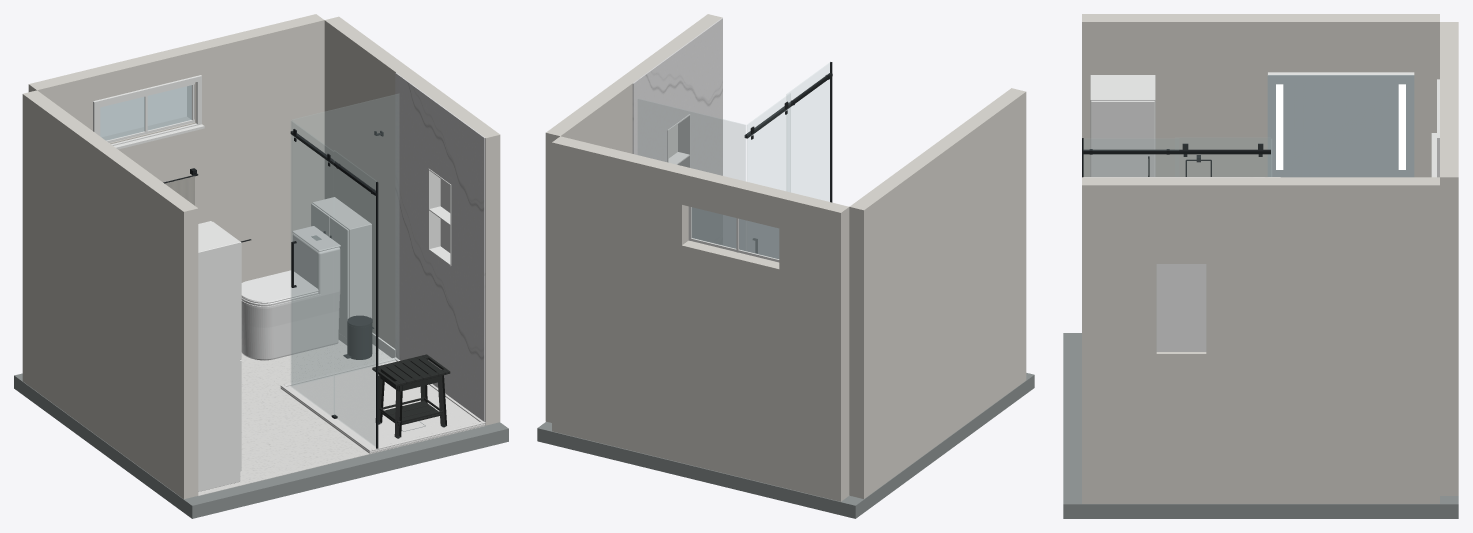
File: bathroom.glb
3 views of the same model, side by side, from view 1: azimuth 30°, elevation 25°; view 2: azimuth 150°, elevation 25°; view 3: azimuth 270°, elevation 25° (orthographic). The views are drawn at different scales.
Visible parts, largest first — view 1: Left wall, Shower glass · short return, Back wall · below window, Right wall · toilet end, White speckled epoxy floor, Shower glass · sliding door concept, Sapphire right panel · below niche, LF1614-62GWH linen cabinet, Shower glass · fixed long panel, Back wall · above window, Floor slab, Sapphire right panel · above niche (+19 smaller); view 2: Back wall · below window, Left wall, Back wall · above window, Floor slab, Sapphire right panel · above niche, Shower glass · short return, Right wall · toilet end, Back wall · right return, Shower glass · fixed long panel, Shower glass · sliding door concept, Back wall · left return, Two-pane window glass (+3 smaller); view 3: Right wall · toilet end, Left wall, Right wall · below niche, Right wall · above niche, ALEX reflective surface, Floor slab, Right wall · front return, Right wall · back return, Linen cabinet door · right hinged, Back wall · below window, Homevacious vertical niche back, Back wall · above window (+6 smaller).
Boxes of the visible parts, x1,y1,x2,y2 form: Left wall: (22, 90, 198, 499); Shower glass · short return: (292, 94, 398, 385); Back wall · below window: (102, 91, 324, 282); Right wall · toilet end: (324, 16, 410, 348); White speckled epoxy floor: (198, 340, 485, 495); Shower glass · sliding door concept: (291, 120, 334, 415); Sapphire right panel · below niche: (395, 225, 485, 421); LF1614-62GWH linen cabinet: (198, 221, 240, 491); Shower glass · fixed long panel: (334, 150, 376, 446); Back wall · above window: (28, 14, 324, 112); Floor slab: (14, 373, 508, 518); Sapphire right panel · above niche: (395, 72, 485, 208); Back wall · below window: (552, 214, 849, 501); Left wall: (849, 88, 1026, 498); Back wall · above window: (552, 136, 849, 243); Floor slab: (537, 373, 1034, 518); Sapphire right panel · above niche: (632, 18, 722, 154); Shower glass · short return: (638, 99, 745, 180); Right wall · toilet end: (545, 80, 632, 422); Back wall · right return: (552, 173, 688, 245); Shower glass · fixed long panel: (786, 63, 829, 201); Shower glass · sliding door concept: (747, 93, 790, 191); Back wall · left return: (779, 228, 849, 284); Two-pane window glass: (691, 207, 779, 259); Right wall · toilet end: (1280, 177, 1439, 503); Left wall: (1082, 14, 1439, 177); Right wall · below niche: (1082, 352, 1280, 503); Right wall · above niche: (1082, 177, 1280, 263); ALEX reflective surface: (1267, 75, 1414, 177); Floor slab: (1063, 333, 1458, 518); Right wall · front return: (1082, 264, 1156, 353); Right wall · back return: (1206, 264, 1280, 353); Linen cabinet door · right hinged: (1091, 100, 1154, 176); Back wall · below window: (1440, 256, 1458, 495); Homevacious vertical niche back: (1156, 264, 1206, 351); Back wall · above window: (1440, 22, 1458, 211).
Bounding box in the file's own units: 2.49 × 2.26 × 2.43.
Materials: 17 (3 with a texture image).
